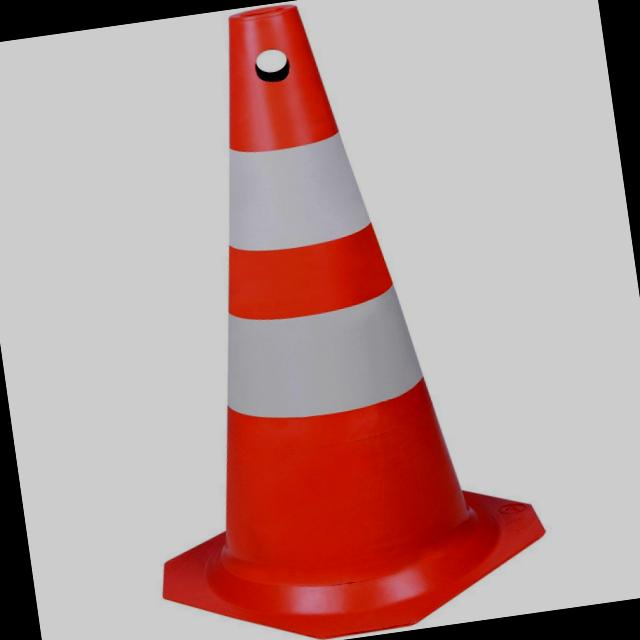cone: (81, 0, 539, 640)
